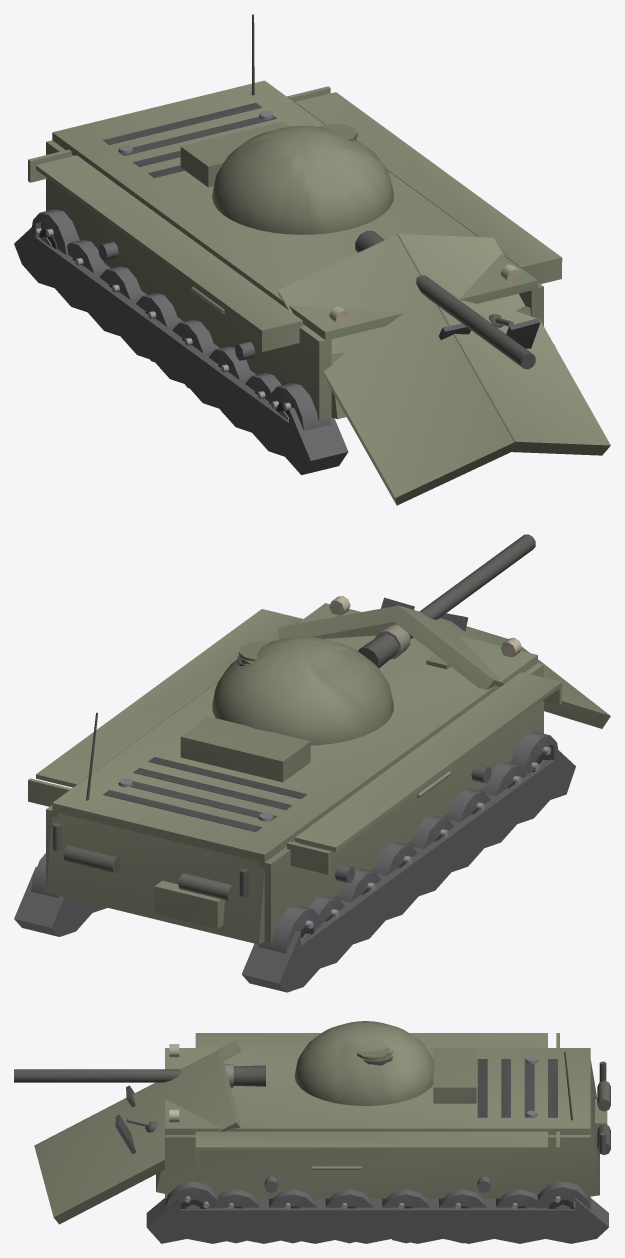
3 renders of one model, top to bottom at view 1: azimuth 30°, elevation 25°; view 2: azimuth 150°, elevation 25°; view 3: azimuth 270°, elevation 25°, orthographic. The views are drawn at different scales.
Visible parts, largest first — view 1: glacis, hullSide, hullTop, tracks, turretRear, turretFront, barrel, turretSide, wheel6, wheel7, wheel2, wheel3 (+3 smaller); view 2: hullTop, hullSide, tracks, hullRear, turretSide, turretRear, glacis, barrel, wheel7, wheel6, wheel3, wheel2 (+4 smaller); view 3: hullSide, hullTop, tracks, glacis, turretSide, barrel, turretRear, hullRear, turretFront, wheel15, wheel14, wheel11 (+6 smaller).
Boxes of the visible parts, box(x1,y1,x2,y2) form: glacis: box(278, 234, 610, 505); hullSide: box(28, 86, 562, 420); hullTop: box(52, 80, 537, 339); tracks: box(14, 222, 555, 475); turretRear: box(180, 121, 314, 234); turretFront: box(282, 137, 389, 234); barrel: box(355, 230, 535, 369); turretSide: box(212, 125, 393, 206); wheel6: box(269, 383, 331, 430); wheel7: box(32, 209, 79, 254); wheel2: box(136, 293, 183, 361); wheel3: box(172, 319, 219, 388); hullTop: box(52, 603, 537, 862); hullSide: box(28, 596, 562, 942); tracks: box(14, 745, 575, 992); hullRear: box(46, 712, 266, 944); turretSide: box(212, 637, 363, 745); turretRear: box(180, 644, 393, 782); glacis: box(278, 597, 610, 728); barrel: box(358, 534, 535, 668); wheel7: box(258, 905, 321, 953); wheel6: box(510, 731, 558, 777); wheel3: box(406, 815, 453, 849); wheel2: box(370, 842, 417, 875); hullSide: box(165, 1033, 590, 1198); hullTop: box(165, 1048, 590, 1134); tracks: box(146, 1125, 608, 1243); glacis: box(34, 1040, 240, 1224); turretSide: box(313, 1022, 434, 1105); barrel: box(14, 1064, 265, 1087); turretRear: box(309, 1021, 476, 1103); hullRear: box(564, 1052, 610, 1196); turretFront: box(294, 1026, 365, 1096); wheel15: box(535, 1181, 590, 1209); wheel14: box(165, 1181, 219, 1209); wheel11: box(325, 1189, 373, 1243).
Size of what is drawn, in the model's own units: 4.38 by 3.1 by 9.68.
